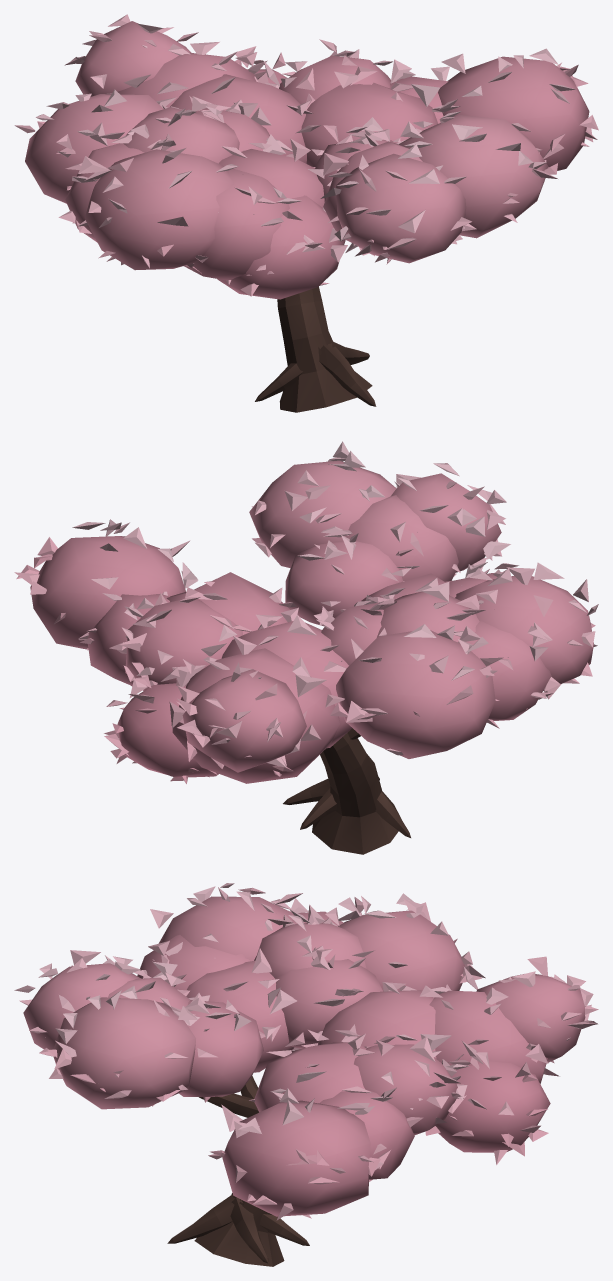
Rendered from sakura_1.glb.
3 views of the same model, one above another, from view 1: azimuth 30°, elevation 25°; view 2: azimuth 150°, elevation 25°; view 3: azimuth 270°, elevation 25° (orthographic). The views are drawn at different scales.
Visible parts, largest first — view 1: sakura_1; view 2: sakura_1; view 3: sakura_1.
Part boxes in pixels (box(x1,y1,x2,y2)): sakura_1: box(14, 14, 598, 412); sakura_1: box(14, 441, 598, 854); sakura_1: box(14, 883, 598, 1266).
Size of the model in its own units: 11.18 by 6.37 by 10.96.
